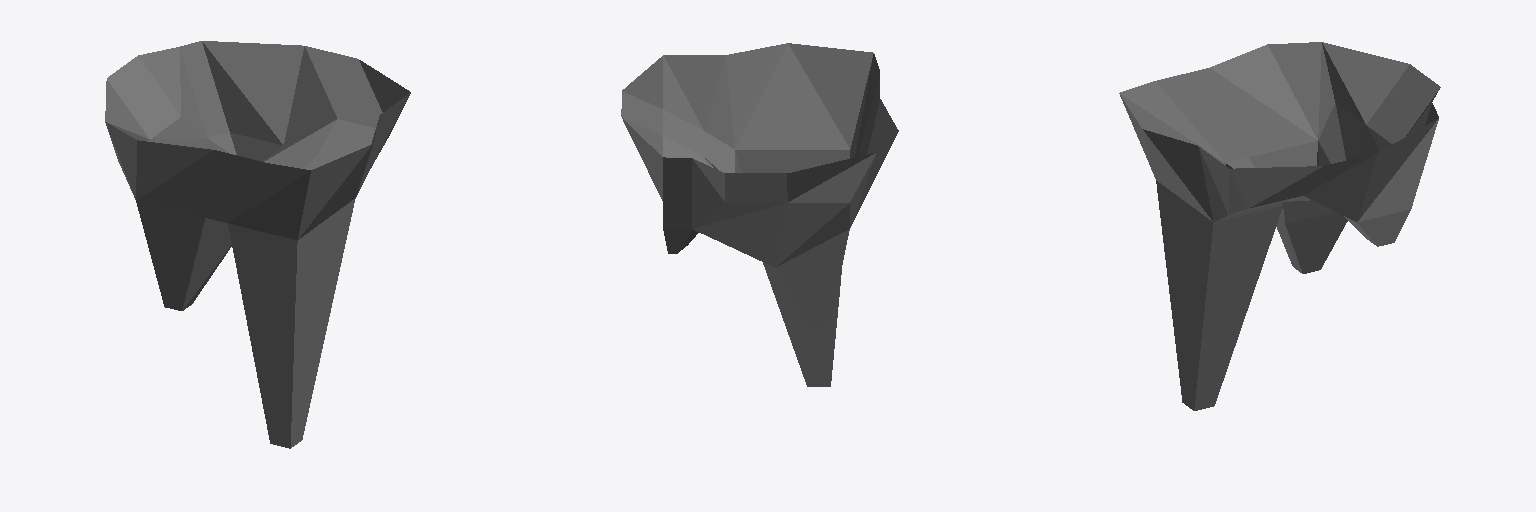
File: 3-Stalactite.obj
The picture shows the model from 3 angles: view 1: azimuth 30°, elevation 25°; view 2: azimuth 150°, elevation 25°; view 3: azimuth 270°, elevation 25°; orthographic projection.
Parts seen in each view (by area): view 1: pCube3 group1; view 2: pCube3 group1; view 3: pCube3 group1.
Part boxes in pixels (left/top/right/bottom): pCube3 group1: left=105, top=41, right=410, bottom=448; pCube3 group1: left=621, top=43, right=898, bottom=386; pCube3 group1: left=1119, top=42, right=1440, bottom=410.
Size of the model in its own units: 1.24 by 1.4 by 1.33.